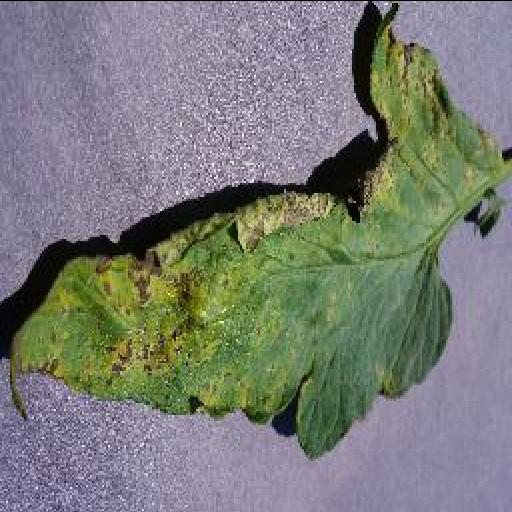disease_tomato: (6, 5, 502, 458)
